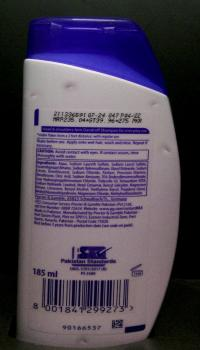dent_marginal: (74, 334, 96, 346), (146, 99, 165, 112), (162, 142, 176, 158), (25, 91, 43, 101), (60, 81, 76, 90)
